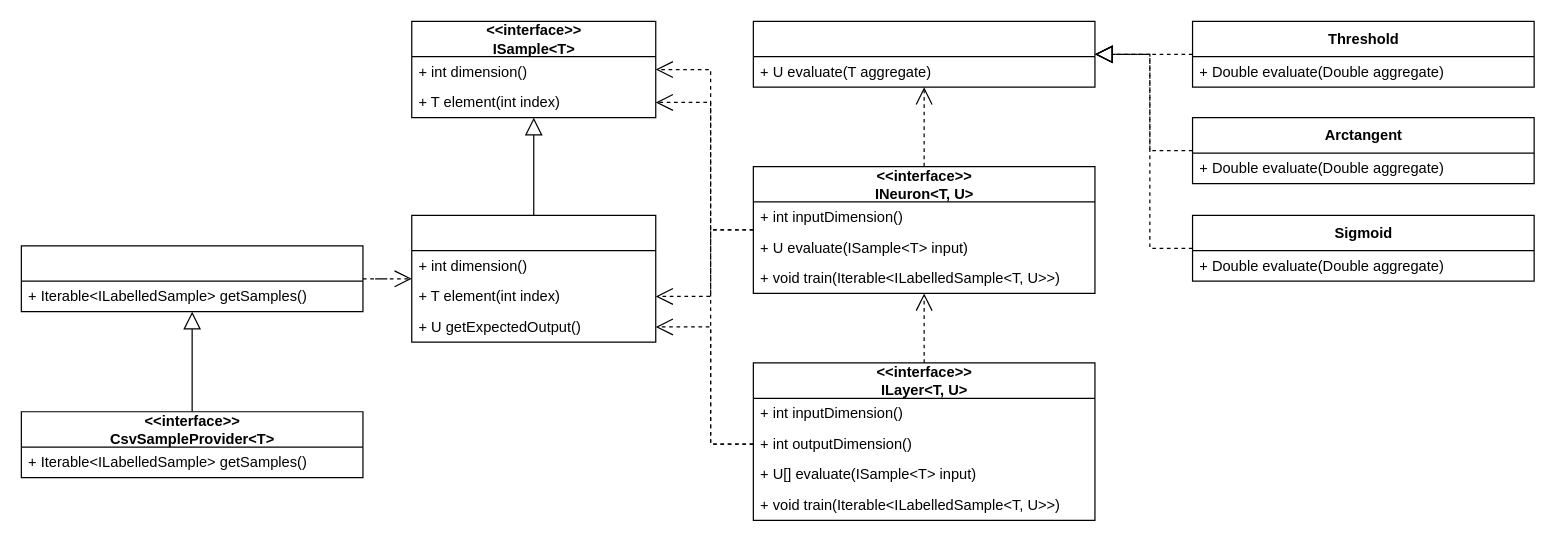
Image size: 1556x542. Some labels were removed from this diagram. The shapes that lost their labels are listed below. From the top down, each one's box as (x1, y1, x2, y2) in pixels, then its label:
(752, 20, 1095, 87): <<interface>> IFunction<T, U>
(20, 245, 363, 312): <<interface>> ILabelledSampleProvider<T>
(411, 214, 656, 342): <<interface>> ILabelledSample<T, U>
